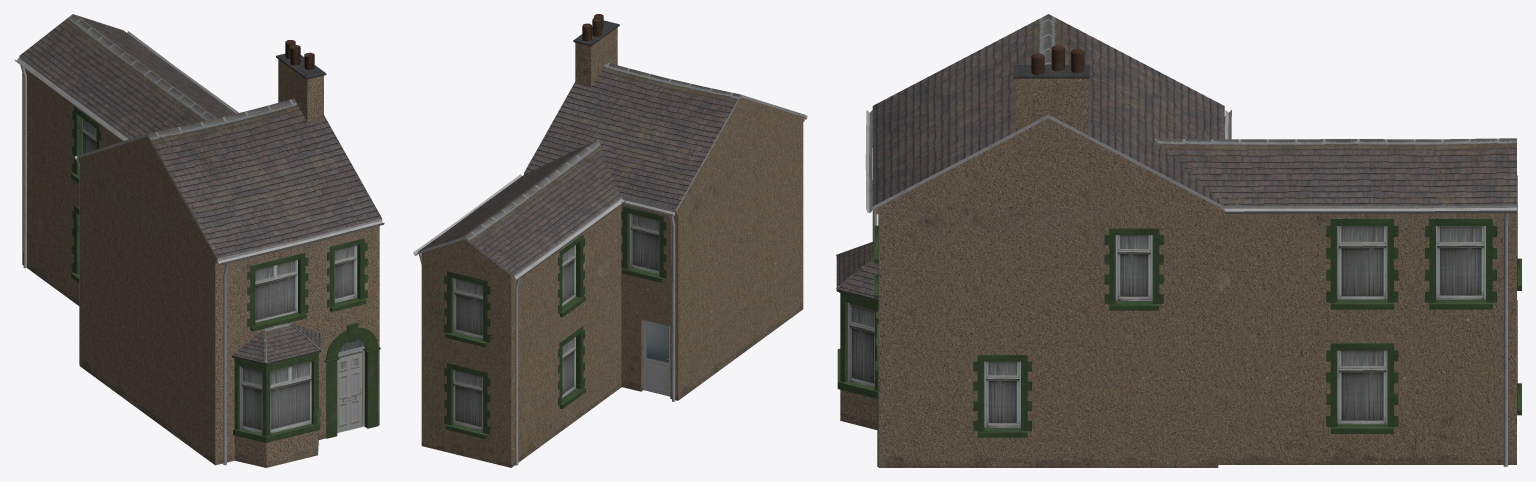
The model's file is ukterracedvictorianc3.FBX.
3 renders of one model, left to right at view 1: azimuth 30°, elevation 25°; view 2: azimuth 150°, elevation 25°; view 3: azimuth 270°, elevation 25°, orthographic. The views are drawn at different scales.
Visible parts, largest first — view 1: Object003; view 2: Object003; view 3: Object003.
Part boxes in pixels (x1,y1,x2,y2): Object003: [14, 14, 384, 467]; Object003: [413, 14, 807, 467]; Object003: [836, 14, 1521, 467].
Size of the model in its own units: 572 by 1073 by 1615.
